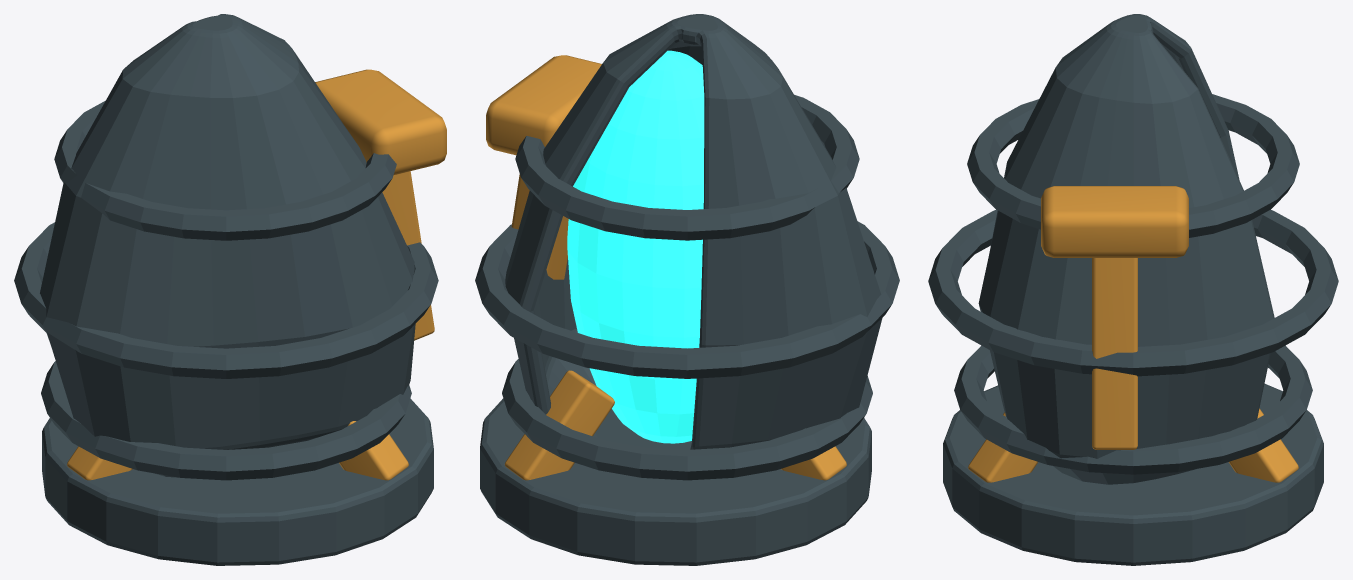
File: pod.glb
The picture shows the model from 3 angles, left to right: view 1: azimuth 30°, elevation 25°; view 2: azimuth 150°, elevation 25°; view 3: azimuth 270°, elevation 25°; orthographic projection. The views are drawn at different scales.
Parts seen in each view (by area): view 1: pod; view 2: pod; view 3: pod.
Part boxes in pixels (x1,y1,x2,y2): pod: [14, 14, 446, 565]; pod: [475, 14, 899, 565]; pod: [928, 14, 1338, 565].
Bounding box in the file's own units: 2.25 × 2.7 × 2.22.
